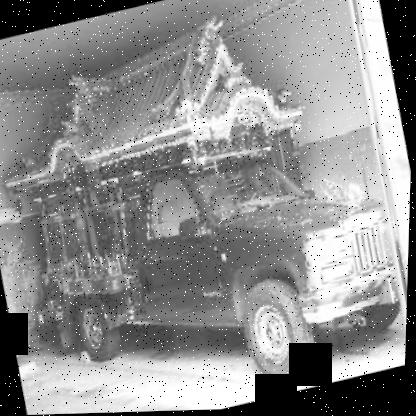not_emergency: (4, 100, 412, 415)
